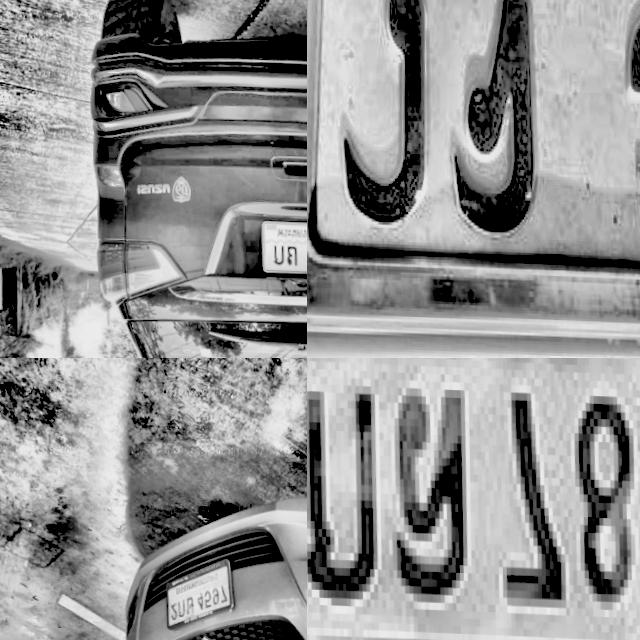license-plate: (307, 0, 640, 358), (307, 358, 640, 640), (158, 551, 231, 631), (249, 209, 307, 283)
